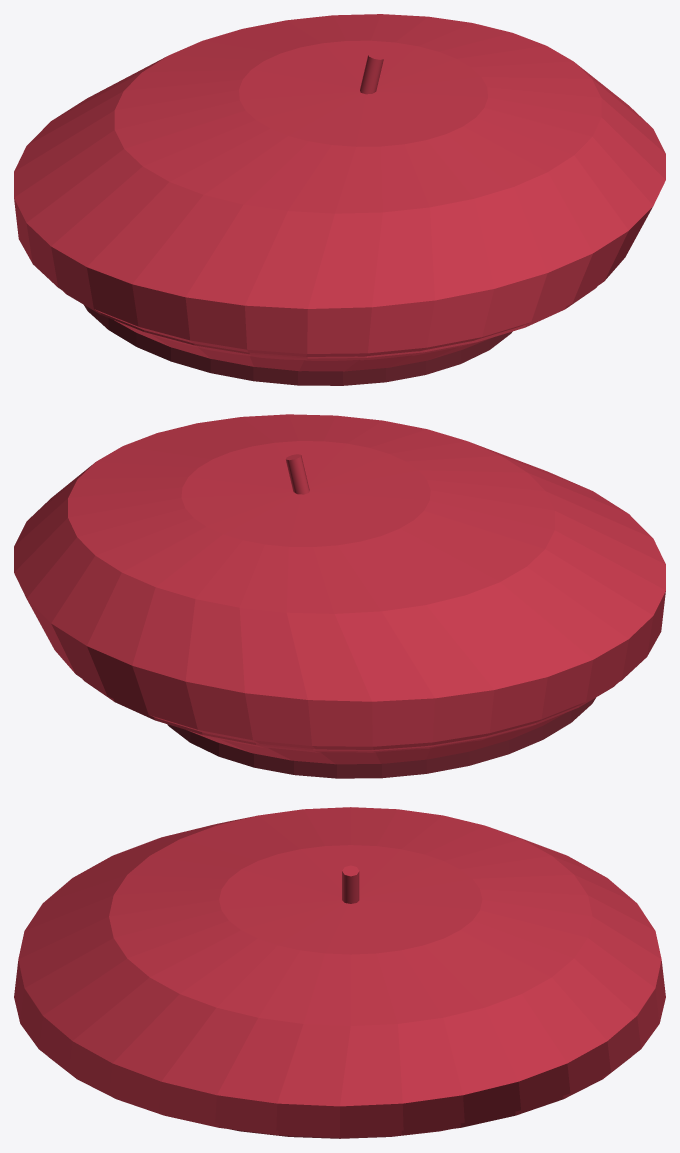
Rendered from hat_beret.glb.
3 renders of one model, top to bottom at view 1: azimuth 30°, elevation 25°; view 2: azimuth 150°, elevation 25°; view 3: azimuth 270°, elevation 25°, orthographic. The views are drawn at different scales.
Parts seen in each view (by area): view 1: Beret_Soft_Tilted_Crown, Beret_Opening_Band, Beret_Top_Stem; view 2: Beret_Soft_Tilted_Crown, Beret_Opening_Band, Beret_Top_Stem; view 3: Beret_Soft_Tilted_Crown, Beret_Top_Stem.
Boxes of the visible parts, <box> form: Beret_Soft_Tilted_Crown: <box>14,14,665,371</box>; Beret_Opening_Band: <box>84,305,512,385</box>; Beret_Top_Stem: <box>360,54,383,94</box>; Beret_Soft_Tilted_Crown: <box>14,414,665,764</box>; Beret_Opening_Band: <box>167,697,595,778</box>; Beret_Top_Stem: <box>285,454,309,494</box>; Beret_Soft_Tilted_Crown: <box>14,807,665,1137</box>; Beret_Top_Stem: <box>342,865,359,903</box>.
Size of the model in its own units: 0.322 by 0.109 by 0.302.
